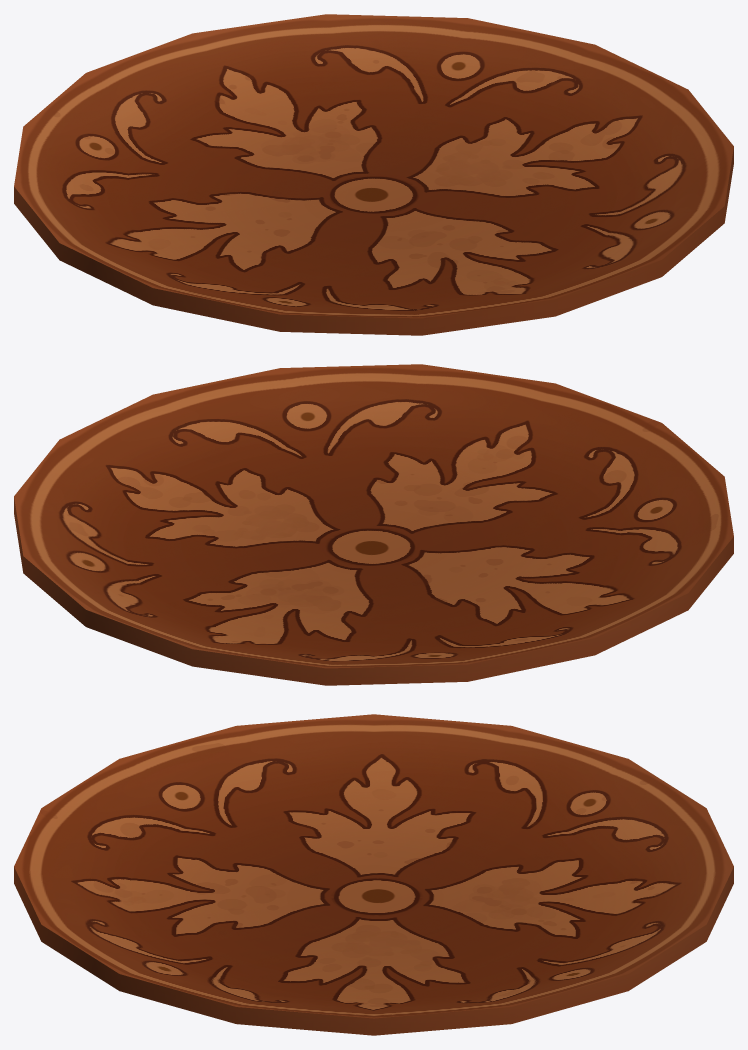
The model's file is Plate.FBX.
3 views of the same model, one above another, from view 1: azimuth 30°, elevation 25°; view 2: azimuth 150°, elevation 25°; view 3: azimuth 270°, elevation 25° (orthographic).
Visible parts, largest first — view 1: Plate; view 2: Plate; view 3: Plate.
Part boxes in pixels (left/top/right/bottom): Plate: left=14, top=14, right=733, bottom=335; Plate: left=14, top=364, right=733, bottom=685; Plate: left=14, top=714, right=733, bottom=1035.
Size of what is drawn, in the model's own units: 65.7 by 65.7 by 5.05.
